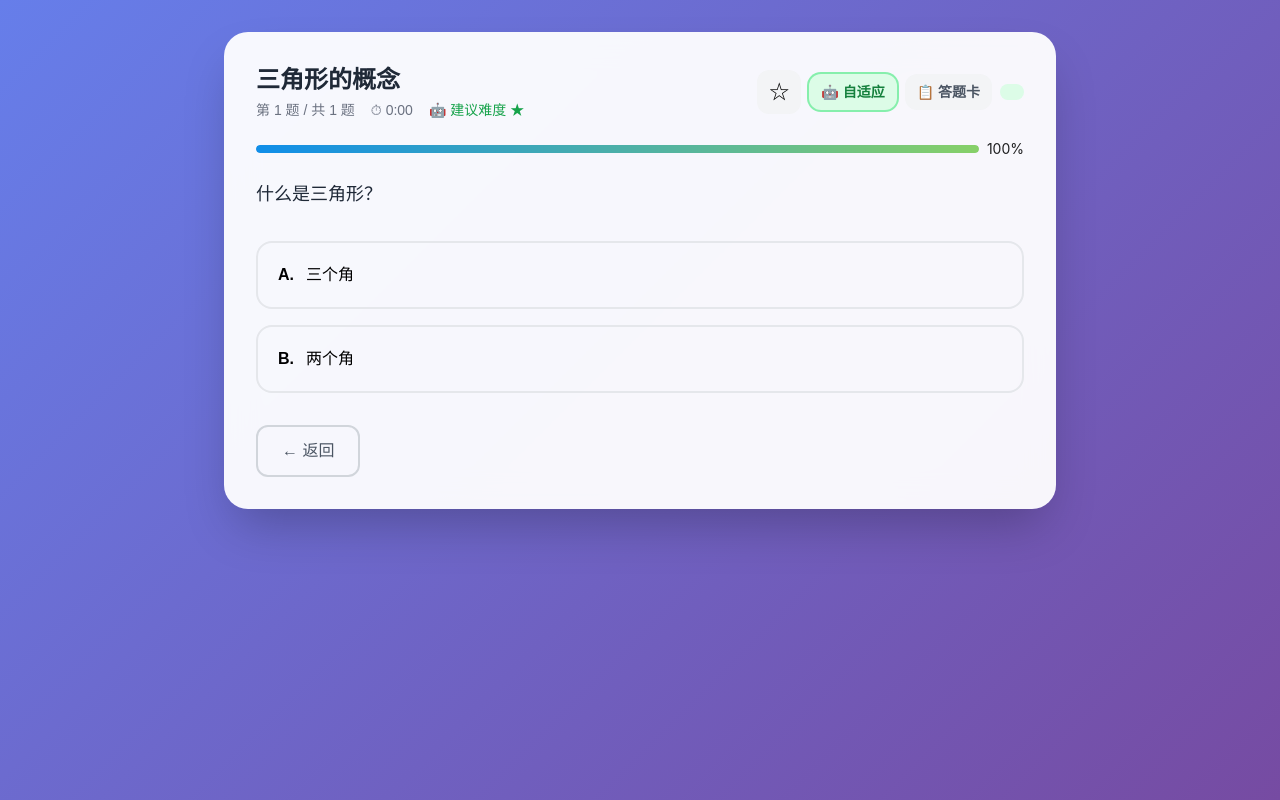
Test: Quiz 页面测试 › 4. 答错后记录
Expected: the text "什么是三角形？" is shown, [256,184,382,204]
Step 1. Click the button "A.三个角" → (330,275), box [256,241,1024,309]
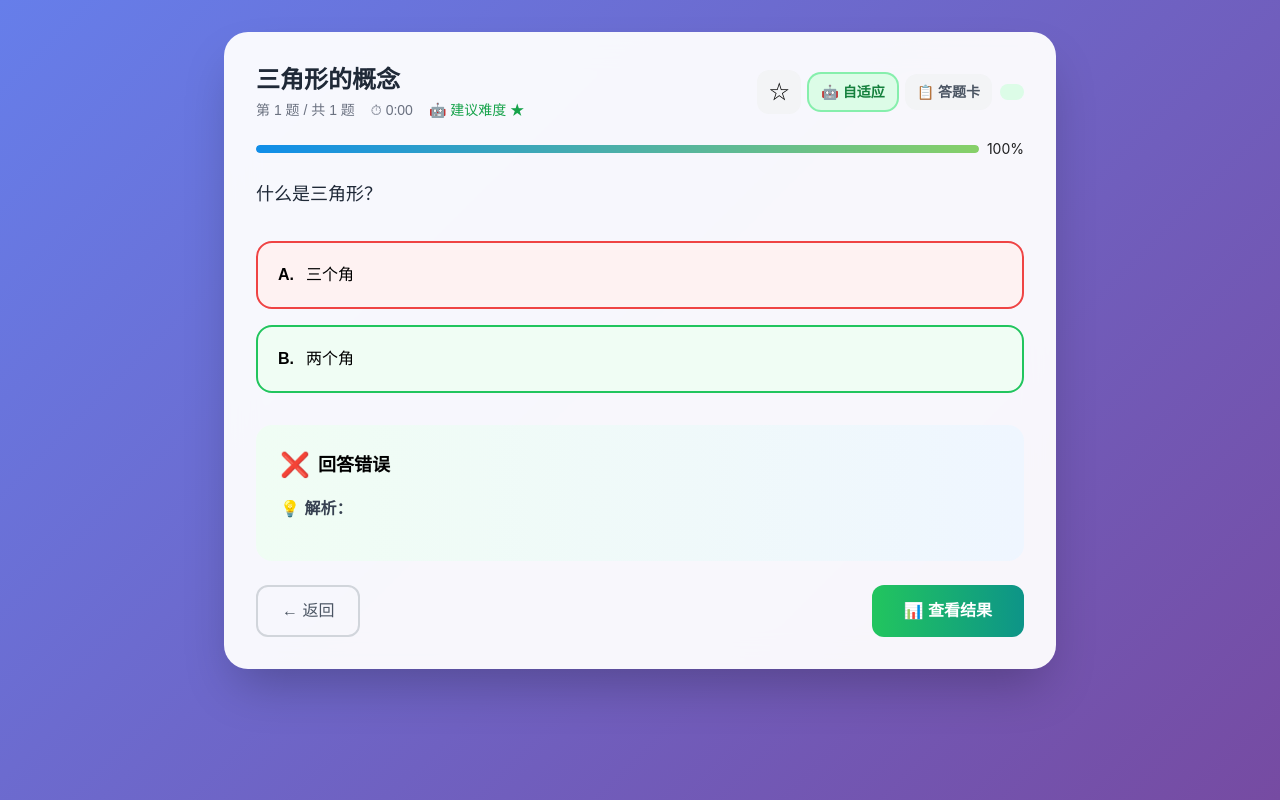
Result: the text "回答错误" is shown at [318,451,390,479]
